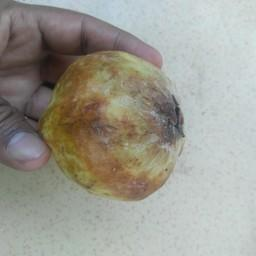Bad_guava: (45, 48, 187, 203)
